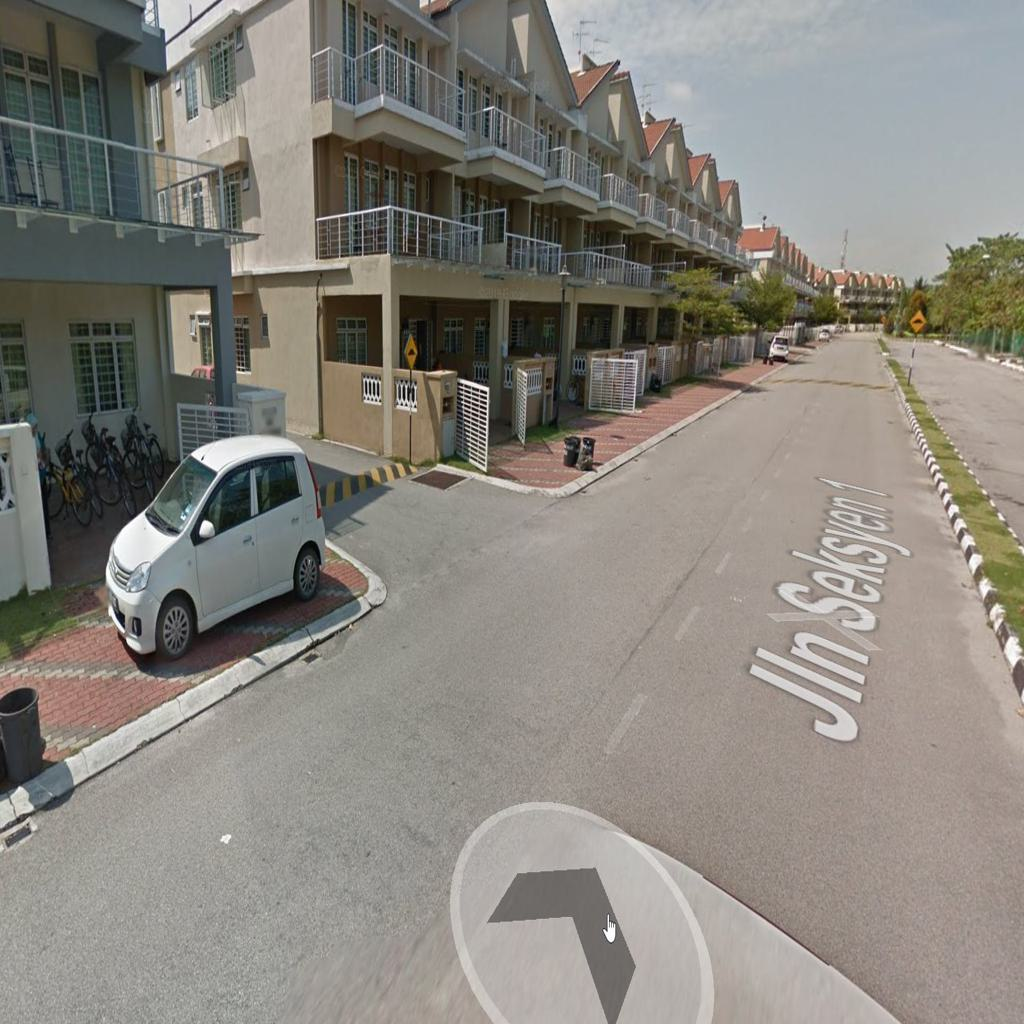Junction: (295, 418, 607, 658)
